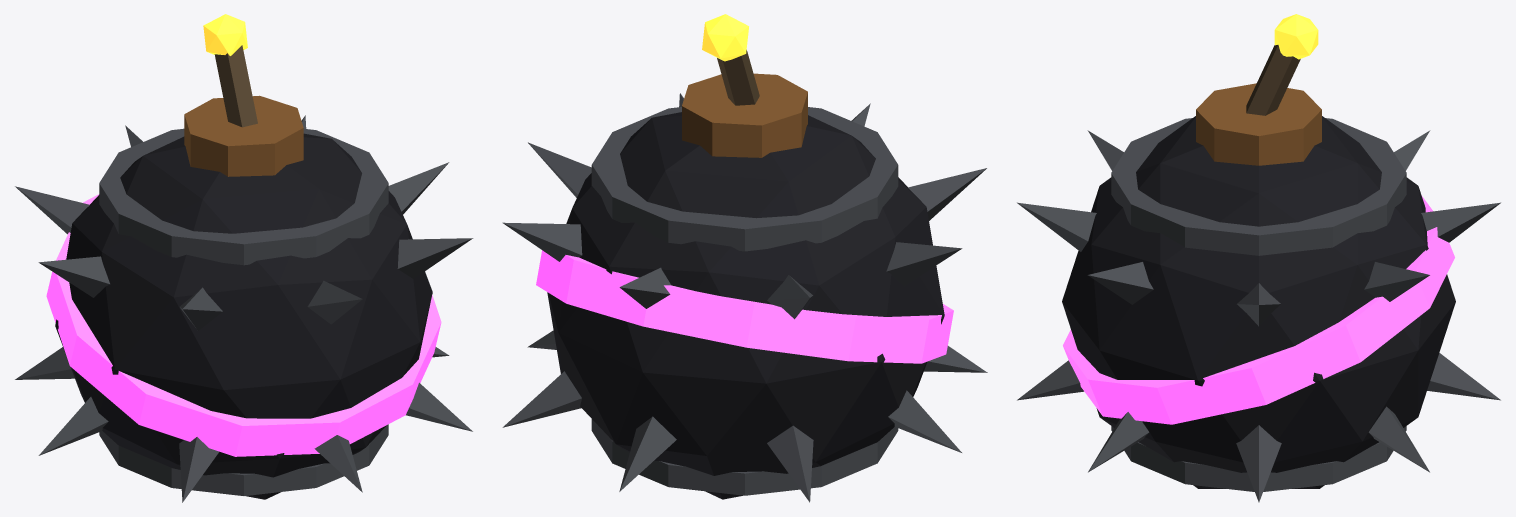
File: projectile_bomb_big.glb
The picture shows the model from 3 angles, left to right: view 1: azimuth 30°, elevation 25°; view 2: azimuth 150°, elevation 25°; view 3: azimuth 270°, elevation 25°; orthographic projection. The views are drawn at different scales.
Parts seen in each view (by area): view 1: BombBig_Shell, BombBig_RuneBand, BombBig, BombBig_FuseCap, BombBig_Band_-1, BombBig_Fuse, BombBig_Spike_7_0.45, BombBig_Spike_4_0.45, BombBig_Spark, BombBig_Spike_4_-0.45, BombBig_Spike_5_-0.45, BombBig_Spike_3_0.45 (+6 smaller); view 2: BombBig_Shell, BombBig_RuneBand, BombBig, BombBig_FuseCap, BombBig_Band_-1, BombBig_Spike_3_-0.45, BombBig_Spike_1_0.45, BombBig_Spike_4_0.45, BombBig_Spike_1_-0.45, BombBig_Spike_2_-0.45, BombBig_Spark, BombBig_Spike_4_-0.45 (+6 smaller); view 3: BombBig_Shell, BombBig_RuneBand, BombBig, BombBig_FuseCap, BombBig_Band_-1, BombBig_Fuse, BombBig_Spike_0_-0.45, BombBig_Spike_6_0.45, BombBig_Spark, BombBig_Spike_2_-0.45, BombBig_Spike_7_0.45, BombBig_Spike_2_0.45 (+5 smaller).
Part boxes in pixels (x1,y1,x2,y2): BombBig_Shell: [55, 133, 432, 499]; BombBig_RuneBand: [46, 194, 441, 456]; BombBig: [99, 128, 388, 265]; BombBig_FuseCap: [184, 95, 303, 176]; BombBig_Band_-1: [99, 424, 388, 495]; BombBig_Fuse: [214, 45, 257, 127]; BombBig_Spike_7_0.45: [397, 238, 473, 278]; BombBig_Spike_4_0.45: [38, 256, 109, 297]; BombBig_Spark: [203, 14, 247, 55]; BombBig_Spike_4_-0.45: [38, 397, 108, 455]; BombBig_Spike_5_-0.45: [179, 437, 218, 502]; BombBig_Spike_3_0.45: [15, 186, 89, 234]; BombBig_Shell: [547, 112, 944, 499]; BombBig_RuneBand: [536, 250, 953, 363]; BombBig: [591, 107, 898, 251]; BombBig_FuseCap: [682, 73, 807, 157]; BombBig_Band_-1: [591, 419, 898, 495]; BombBig_Spike_3_-0.45: [767, 425, 813, 502]; BombBig_Spike_1_0.45: [502, 222, 582, 261]; BombBig_Spike_4_0.45: [886, 242, 962, 285]; BombBig_Spike_1_-0.45: [502, 371, 581, 427]; BombBig_Spike_2_-0.45: [619, 416, 676, 491]; BombBig_Spark: [702, 14, 748, 61]; BombBig_Spike_4_-0.45: [888, 390, 961, 452]; BombBig_Shell: [1062, 116, 1455, 488]; BombBig_RuneBand: [1063, 195, 1454, 424]; BombBig: [1111, 118, 1406, 255]; BombBig_FuseCap: [1196, 83, 1321, 165]; BombBig_Band_-1: [1111, 426, 1406, 491]; BombBig_Fuse: [1246, 45, 1300, 115]; BombBig_Spike_0_-0.45: [1236, 425, 1281, 502]; BombBig_Spike_6_0.45: [1017, 202, 1096, 251]; BombBig_Spark: [1274, 14, 1318, 59]; BombBig_Spike_2_-0.45: [1427, 353, 1500, 400]; BombBig_Spike_7_0.45: [1088, 262, 1153, 304]; BombBig_Spike_2_0.45: [1421, 202, 1500, 242].
Size of the model in its own units: 0.4924 by 0.522 by 0.4924.
